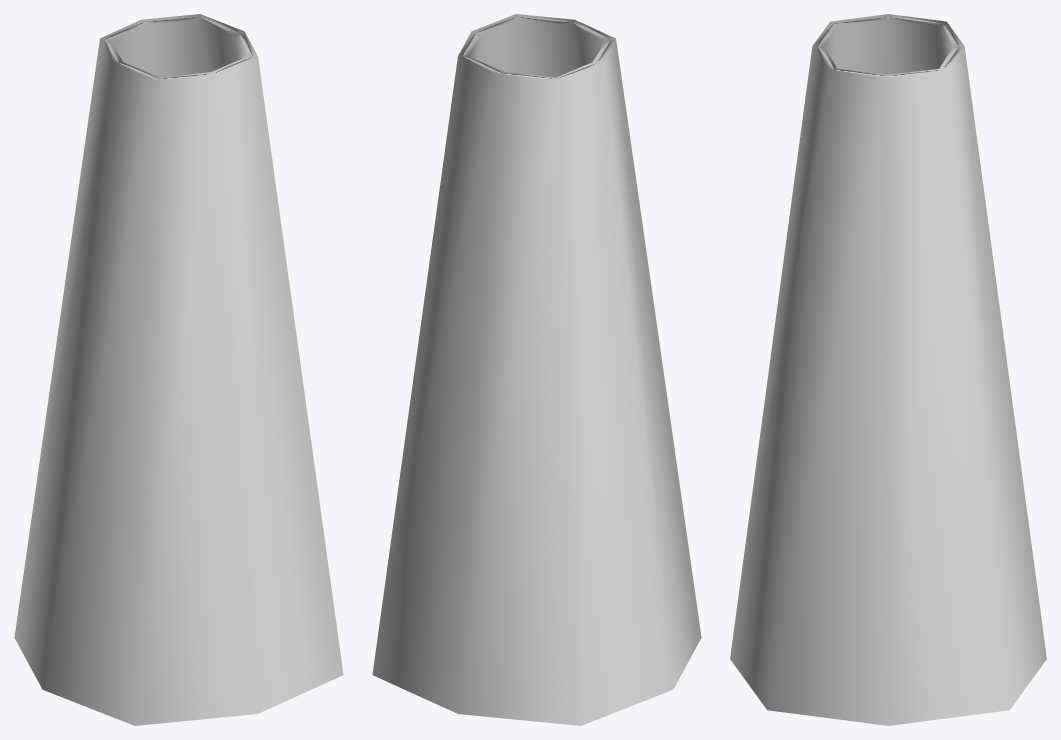
File: Mesh_lightbeam.fbx
3 views of the same model, side by side, from view 1: azimuth 30°, elevation 25°; view 2: azimuth 150°, elevation 25°; view 3: azimuth 270°, elevation 25° (orthographic).
Visible parts, largest first — view 1: volumelight; view 2: volumelight; view 3: volumelight.
Part boxes in pixels (x1,y1,x2,y2): volumelight: (14, 14, 343, 725); volumelight: (372, 14, 701, 725); volumelight: (730, 14, 1046, 725).
Size of the model in its own units: 230 by 491 by 230.
1 material, 1 textured.
